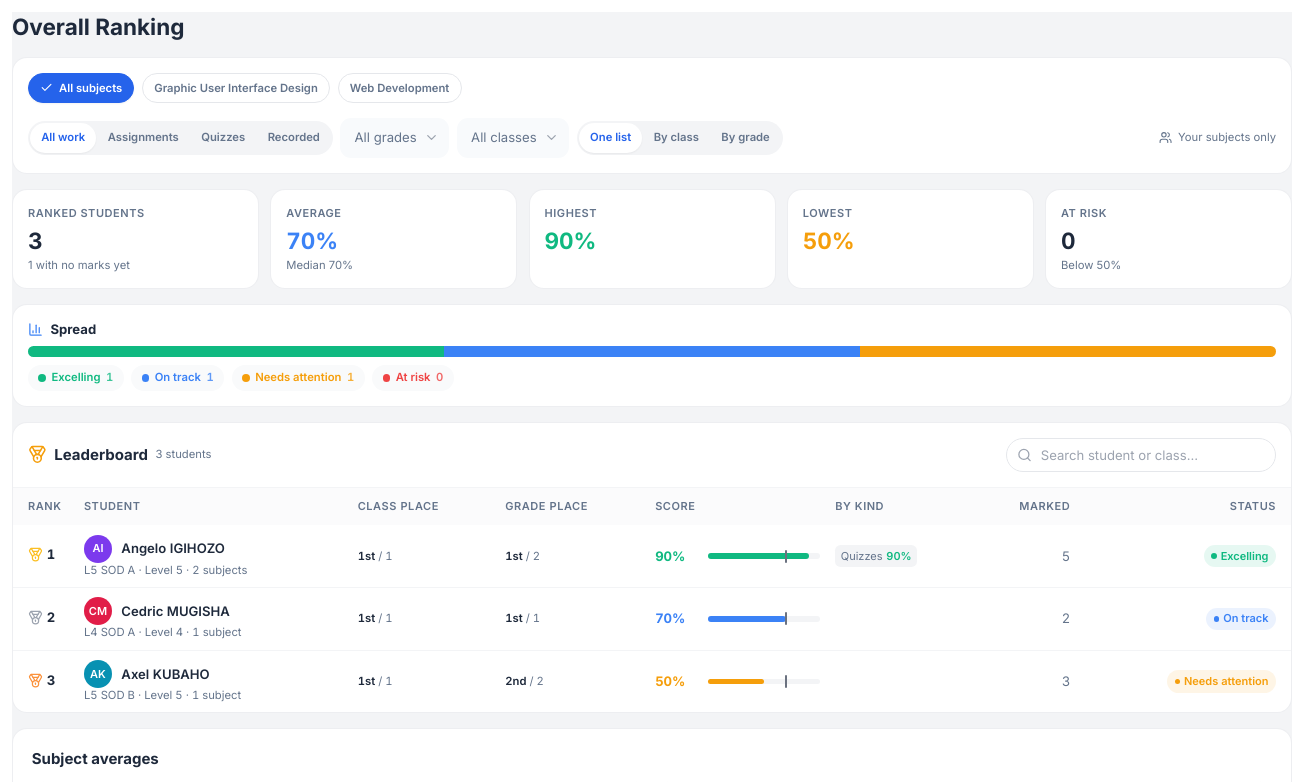
Overall Ranking — staff › searches the leaderboard
Expected: the heading "Leaderboard" is shown, left=54, top=444, right=148, bottom=466
Type "axel" into the search field named "Search students" at x=1141, y=455, box left=1006, top=438, right=1276, bottom=472
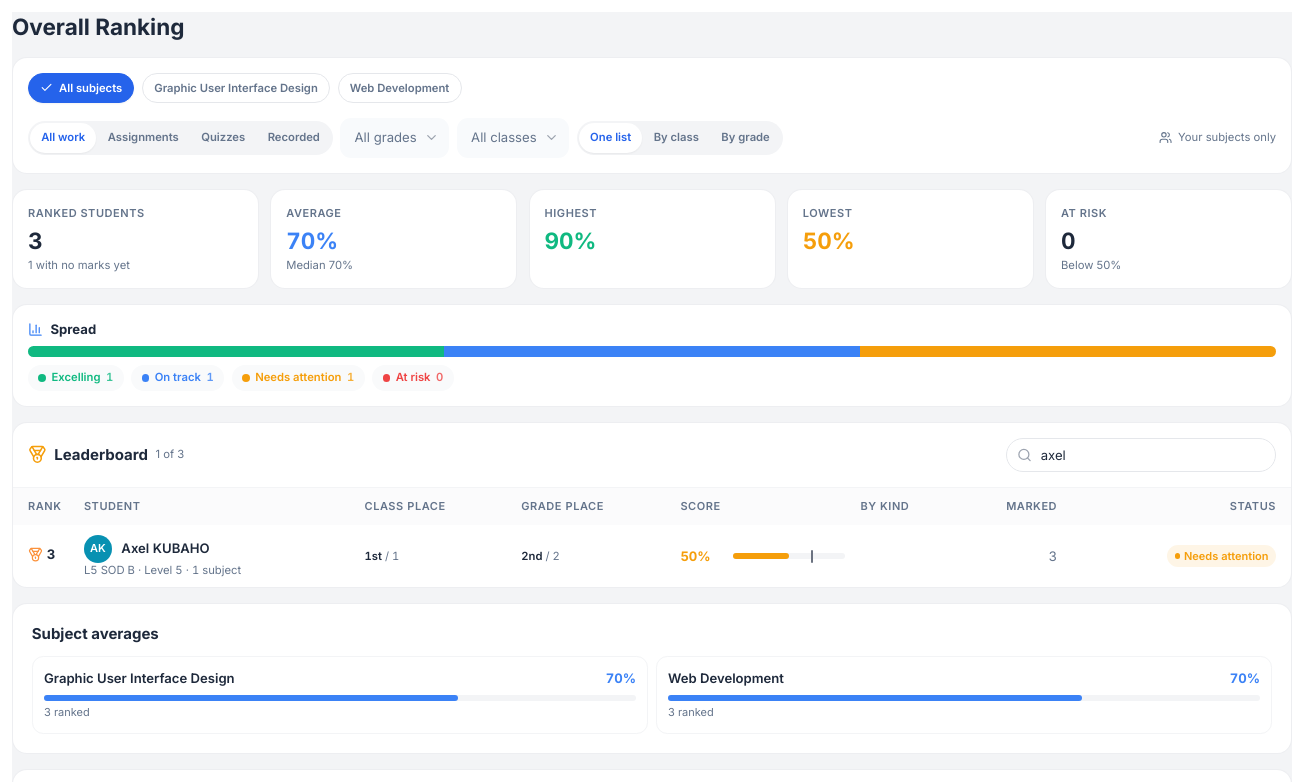
Expected: the link "Axel KUBAHO" is shown, left=121, top=540, right=210, bottom=556
Expected: the link "Angelo IGIHOZO" is gone
